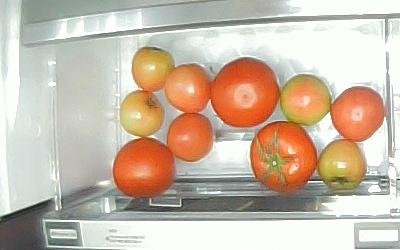tomato: (211, 58, 281, 127), (250, 121, 317, 192), (113, 138, 175, 198), (330, 87, 385, 142), (281, 74, 332, 125), (317, 139, 367, 189), (164, 64, 212, 113), (167, 113, 213, 163), (119, 90, 165, 137), (132, 46, 175, 92)
